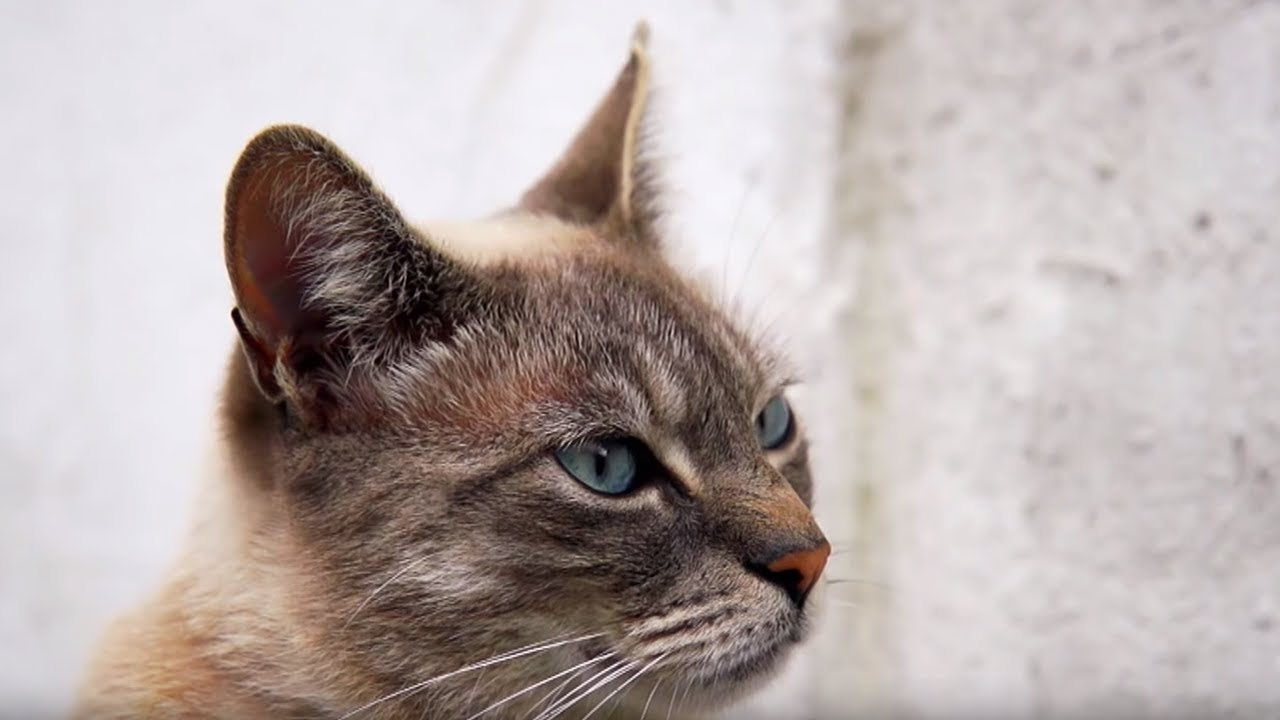cat: (169, 3, 978, 720)
